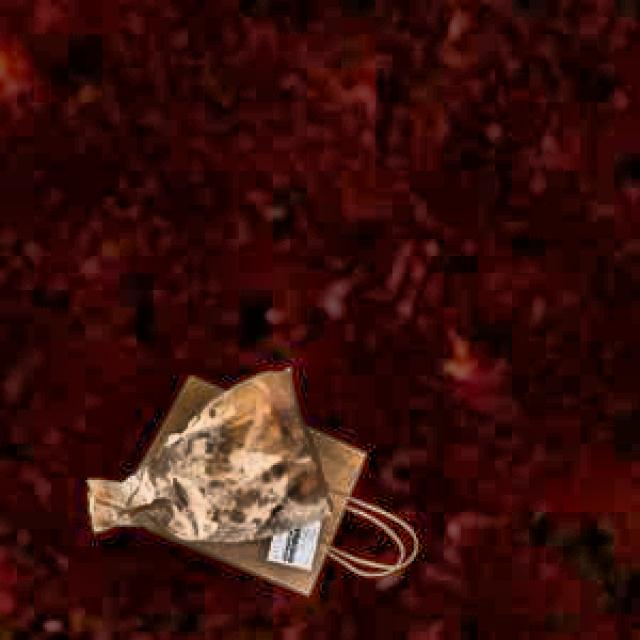Paper-bag: (67, 372, 429, 610)
